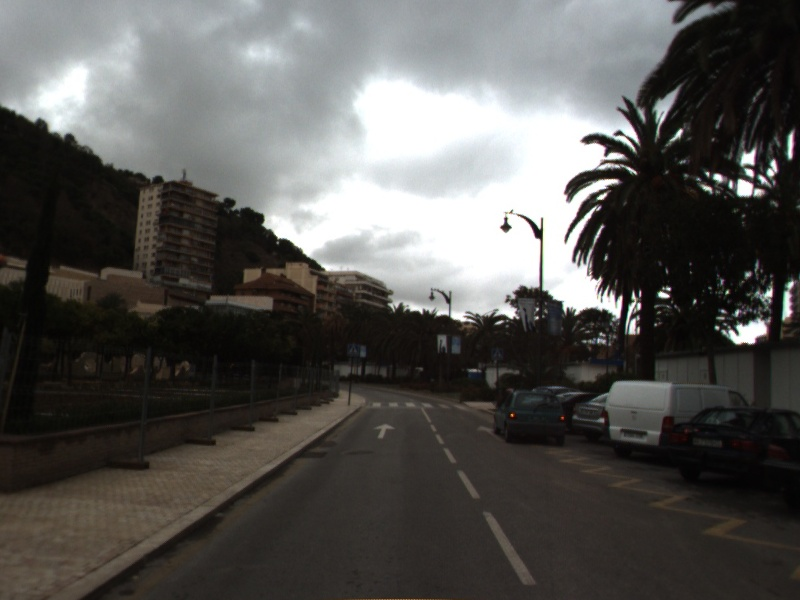STRAIGHT: (474, 423, 507, 444), (371, 422, 398, 441)
